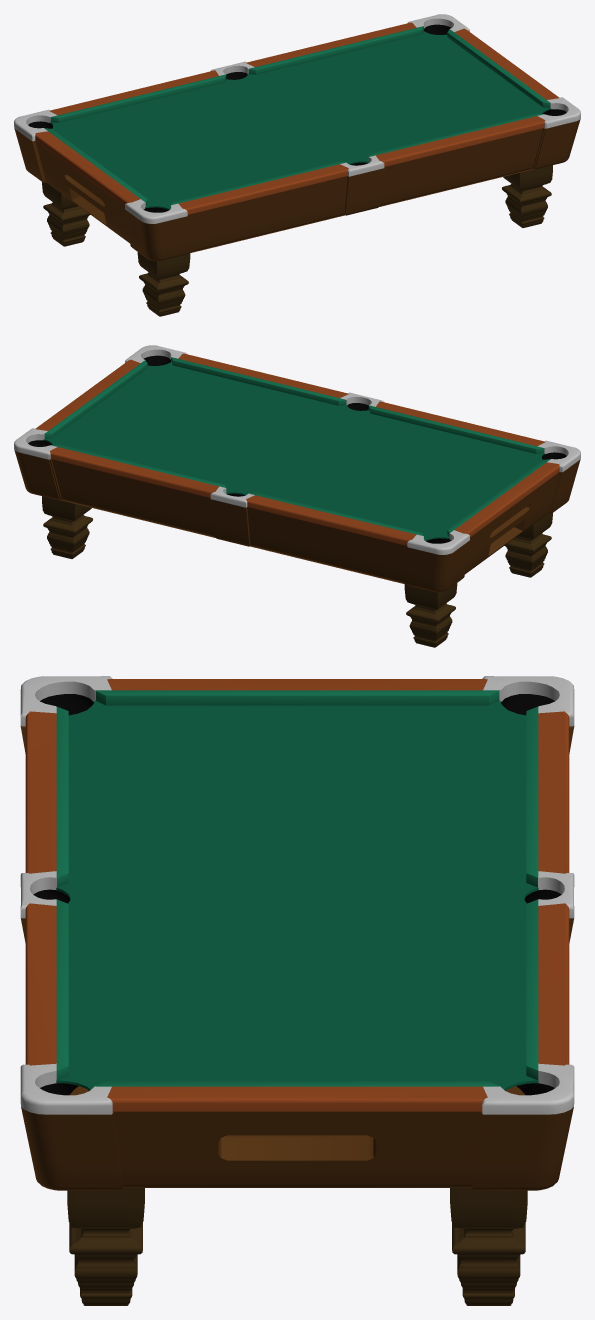
Rendered from BiliardTable_Seperate.fbx.
The picture shows the model from 3 angles, top to bottom: view 1: azimuth 30°, elevation 25°; view 2: azimuth 150°, elevation 25°; view 3: azimuth 270°, elevation 25°; orthographic projection. The views are drawn at different scales.
Visible parts, largest first — view 1: Plane.002, Plane, Plane.001; view 2: Plane.002, Plane, Plane.001; view 3: Plane.002, Plane.001, Plane.
Part boxes in pixels (left/top/right/bottom): Plane.002: left=50, top=31, right=551, bottom=209; Plane: left=14, top=24, right=580, bottom=316; Plane.001: left=14, top=14, right=580, bottom=223; Plane.002: left=43, top=362, right=544, bottom=540; Plane: left=14, top=355, right=580, bottom=647; Plane.001: left=14, top=345, right=580, bottom=554; Plane.002: left=56, top=700, right=538, bottom=1090; Plane.001: left=20, top=676, right=574, bottom=1114; Plane: left=20, top=694, right=574, bottom=1305.
Bounding box in the file's own units: 1000 × 253 × 548.
